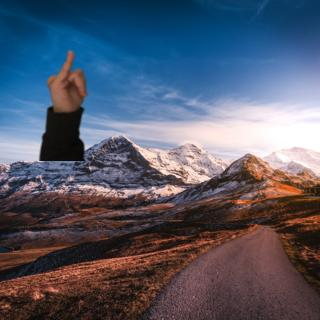HAVE: (42, 47, 93, 114)
